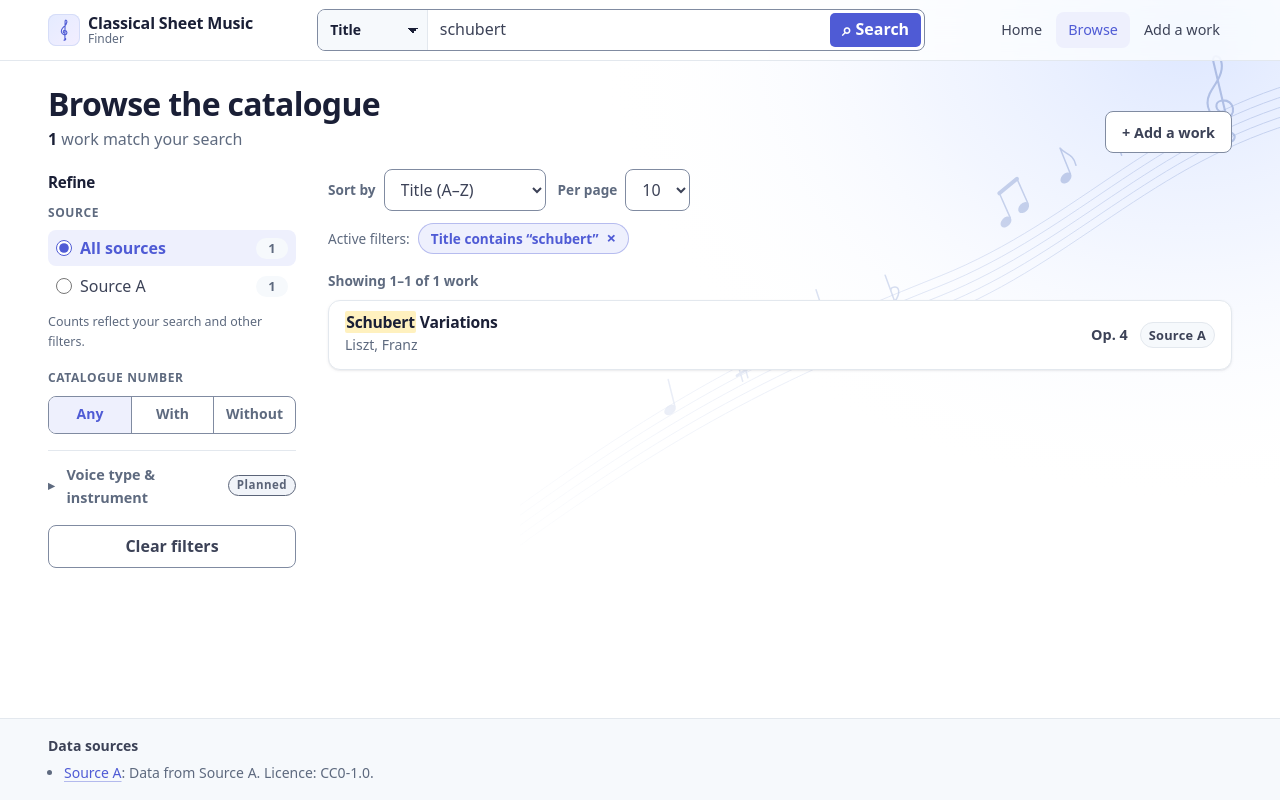
GlobalSearch › moves the search text to the composer field when the scope changes
Expected: the text "Showing 1–1 of 1 work" is shown, x1=328 y1=270 x2=478 y2=292
Select "Composer" in the dropdown named "Search in" at (373, 30), box x1=318 y1=10 x2=428 y2=50
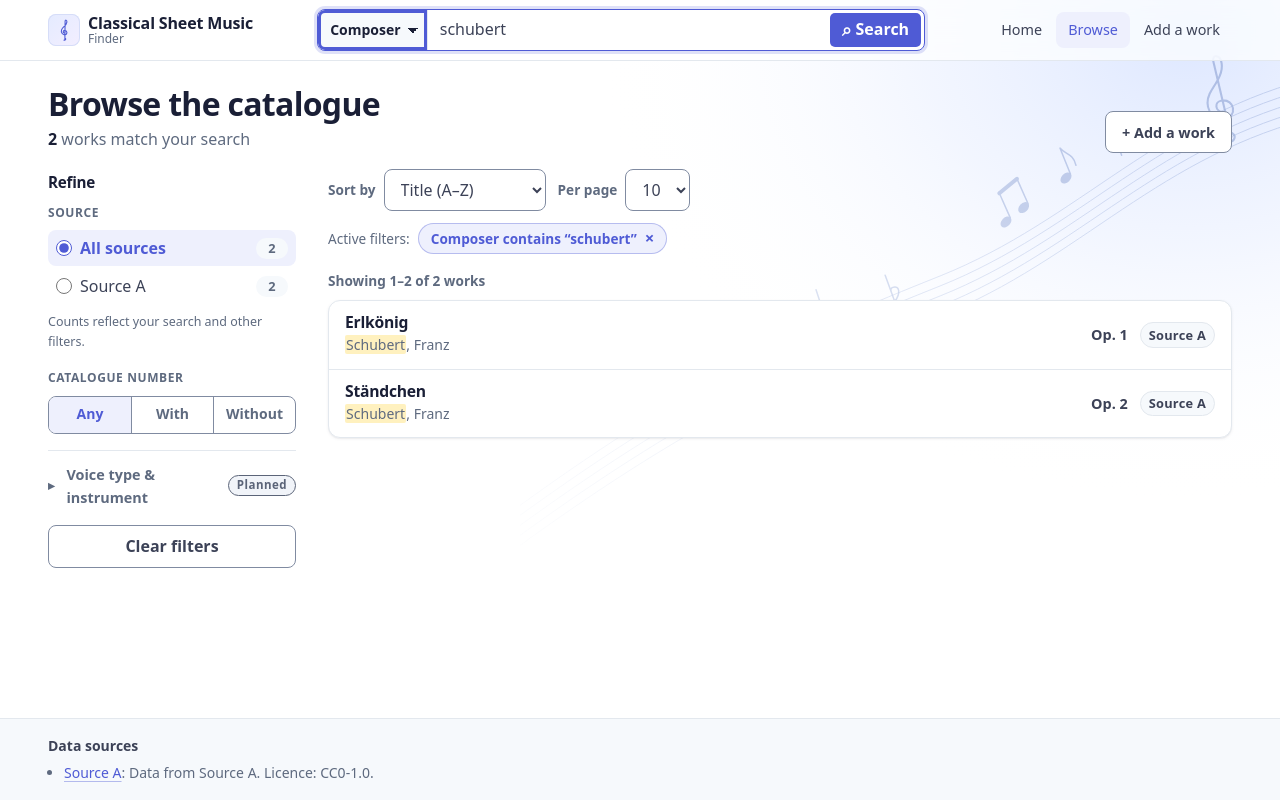
Expected: the search field named "Search by composer" holds "schubert", x1=428 y1=10 x2=827 y2=50
Expected: the text "Showing 1–2 of 2 works" is shown, x1=328 y1=270 x2=485 y2=292
